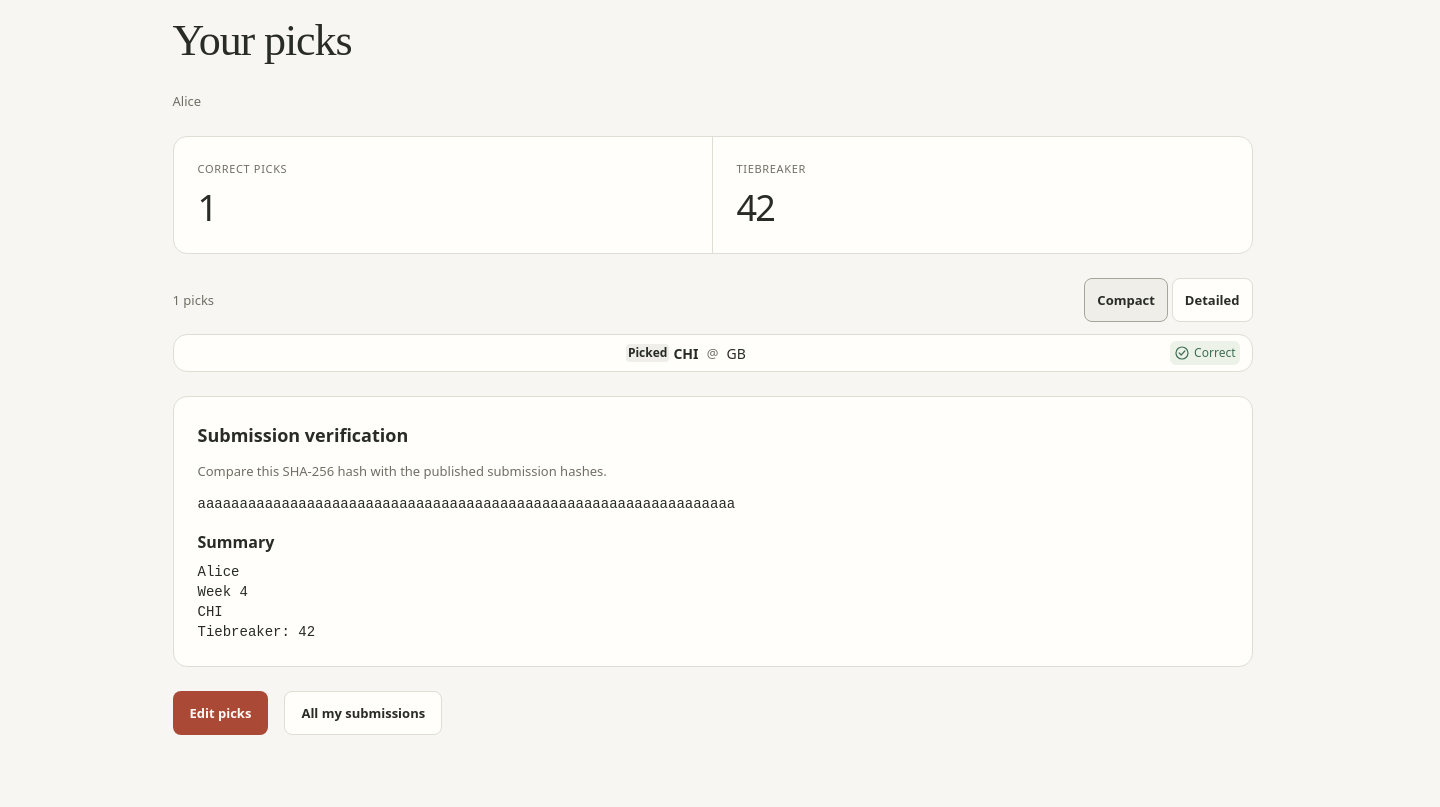
Test: authentication and navigation › resolves personal detail by ID despite a conflicting URL period and pins editing to its stored season
(page scrolled)
Click the link "Edit picks": coordinates (220, 713) [172, 691, 268, 735]
(page scrolled)
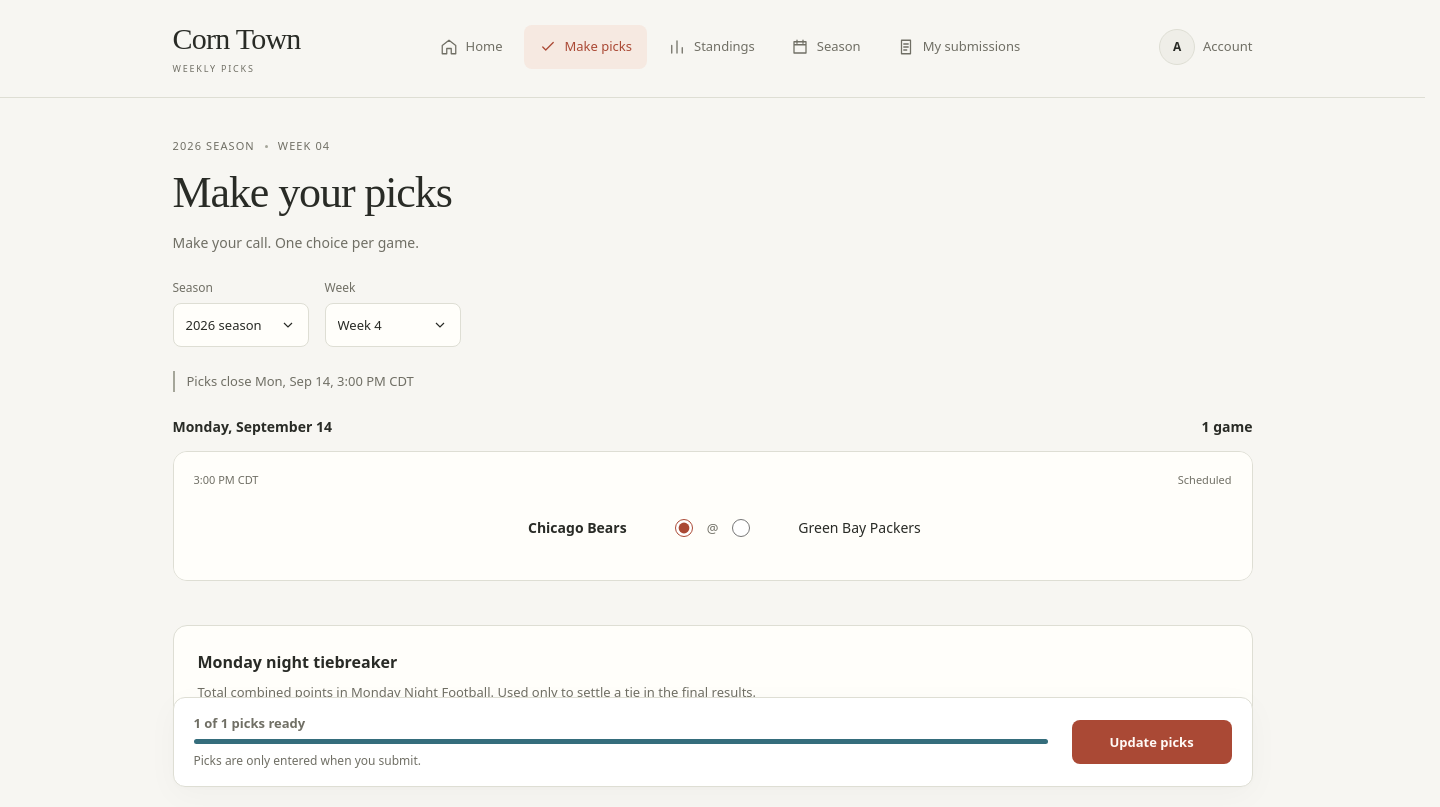
Expected: the dropdown labelled "Week" reads "Week 4", [324, 303, 460, 347]
Expected: the radio button named "Chicago Bears for Bears at Packers" is checked, [675, 519, 693, 537]
Expected: the dropdown labelled "season" reads "2026 season", [172, 303, 308, 347]
